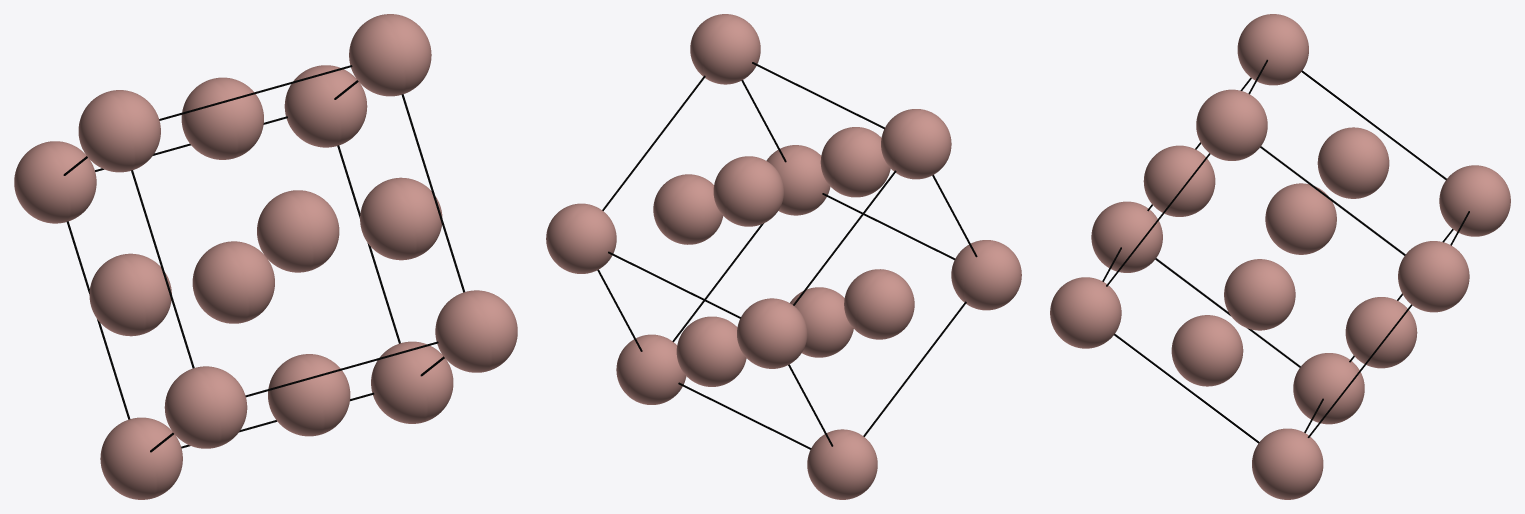
3 views of the same model, side by side, from view 1: azimuth 30°, elevation 25°; view 2: azimuth 150°, elevation 25°; view 3: azimuth 270°, elevation 25° (orthographic). The views are drawn at different scales.
Visible parts, largest first — view 1: UnitCellSegment_0; view 2: UnitCellSegment_0; view 3: UnitCellSegment_0.
Part boxes in pixels (bbox=[...]): UnitCellSegment_0: bbox=[14, 14, 517, 499]; UnitCellSegment_0: bbox=[546, 14, 1021, 499]; UnitCellSegment_0: bbox=[1050, 14, 1510, 499].
Bounding box in the file's own units: 0.5336 × 0.6469 × 0.6595.
